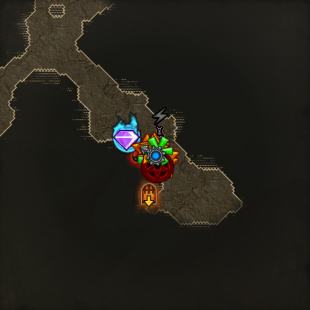Exit: (138, 180, 160, 208)
Urushi: (114, 113, 141, 154)
